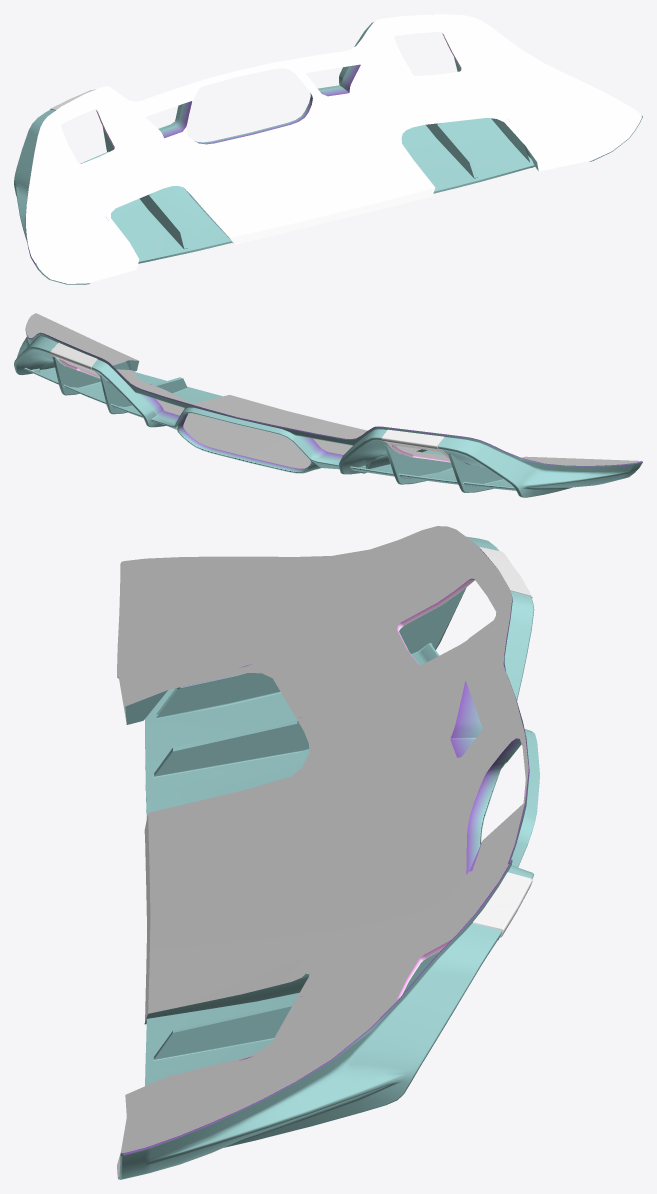
The model's file is Car_MercedesBenz_AMGGT_2015_Diffuser_SetGTR.fbx.
3 renders of one model, top to bottom at view 1: azimuth 30°, elevation 25°; view 2: azimuth 150°, elevation 25°; view 3: azimuth 270°, elevation 25°, orthographic. The views are drawn at different scales.
Parts seen in each view (by area): view 1: Diffuser 6; view 2: Diffuser 6; view 3: Diffuser 6.
Part boxes in pixels (box(x1,y1,x2,y2)): Diffuser 6: box(14, 14, 642, 284); Diffuser 6: box(14, 313, 642, 497); Diffuser 6: box(117, 526, 539, 1179).
Size of the model in its own units: 1.87 by 0.2993 by 0.5633.
